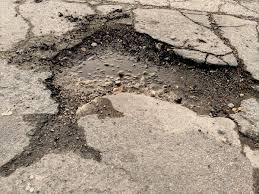alligator-crack: (103, 0, 259, 57)
pothole: (42, 21, 255, 120), (6, 117, 98, 178)
